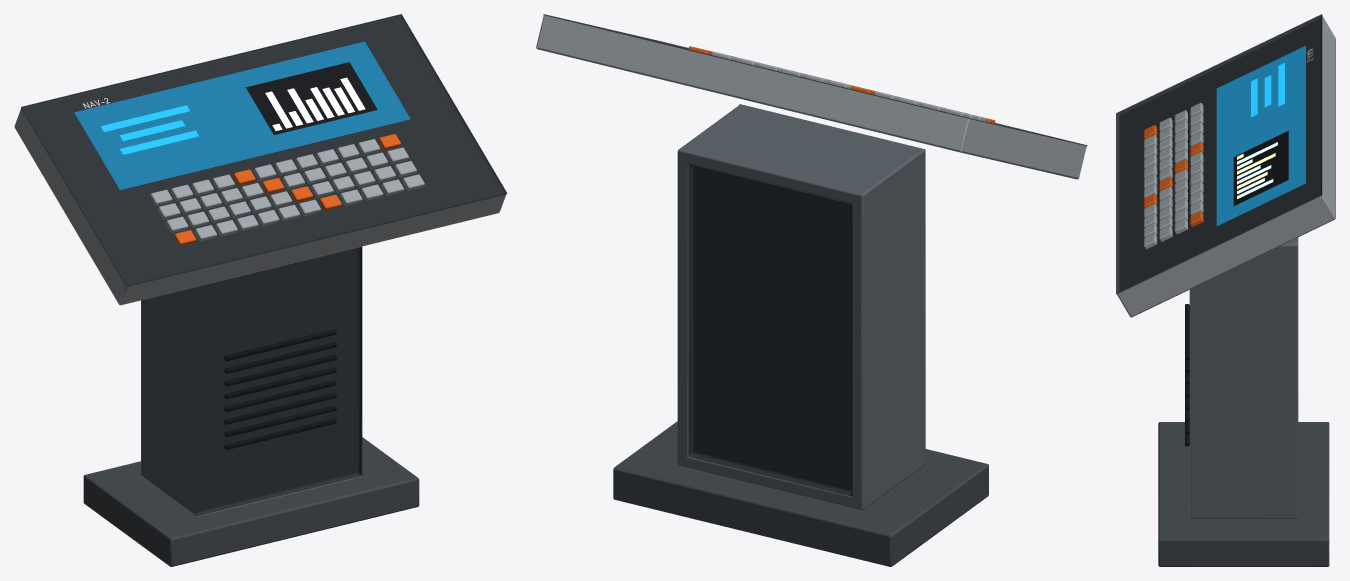
Rendered from console.glb.
The picture shows the model from 3 angles, left to right: view 1: azimuth 30°, elevation 25°; view 2: azimuth 150°, elevation 25°; view 3: azimuth 270°, elevation 25°; orthographic projection. The views are drawn at different scales.
Visible parts, largest first — view 1: console_body, console_decal, console_detail; view 2: console_body, console_detail; view 3: console_body, console_decal, console_detail.
Boxes of the visible parts, x1=… form: console_body: x1=14, y1=14, x2=507, y2=566; console_decal: x1=74, y1=41, x2=410, y2=189; console_detail: x1=150, y1=134, x2=424, y2=449; console_body: x1=536, y1=14, x2=1087, y2=566; console_detail: x1=688, y1=46, x2=995, y2=123; console_body: x1=1116, y1=14, x2=1335, y2=566; console_decal: x1=1216, y1=45, x2=1313, y2=225; console_detail: x1=1144, y1=103, x2=1203, y2=446.
Size of the model in its own units: 1.1 by 1.15 by 0.5656.
